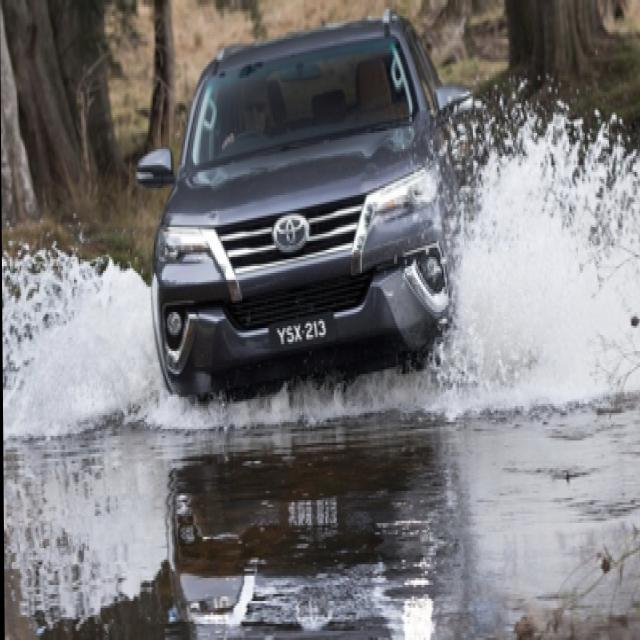licence: (266, 321, 330, 351)
